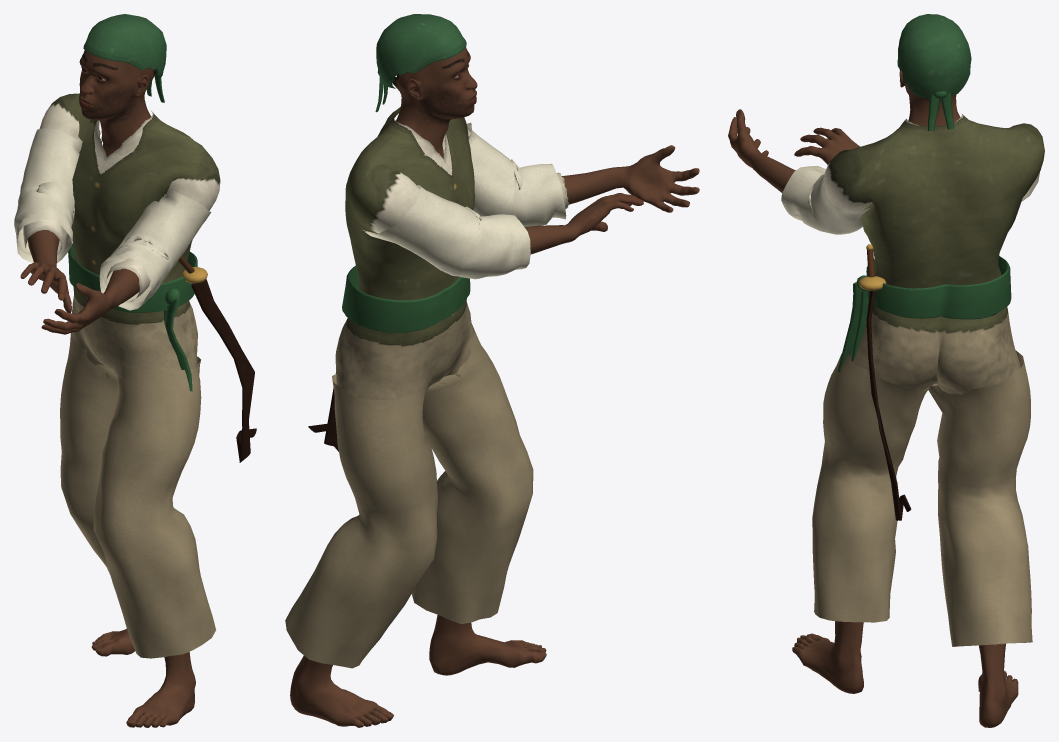
Rendered from SM_Art_Person_liberation_fighter.gltf.
The picture shows the model from 3 angles, left to right: view 1: azimuth 30°, elevation 25°; view 2: azimuth 150°, elevation 25°; view 3: azimuth 270°, elevation 25°; orthographic projection. The views are drawn at different scales.
Visible parts, largest first — view 1: SM_Art_Person_liberation_fighter; view 2: SM_Art_Person_liberation_fighter; view 3: SM_Art_Person_liberation_fighter.
Boxes of the visible parts, x1,y1,x2,y2 form: SM_Art_Person_liberation_fighter: (14, 14, 256, 727); SM_Art_Person_liberation_fighter: (285, 14, 699, 727); SM_Art_Person_liberation_fighter: (728, 14, 1044, 727).
Bounding box in the file's own units: 0.8035 × 1.74 × 0.7517.
14 materials, 12 textured.
